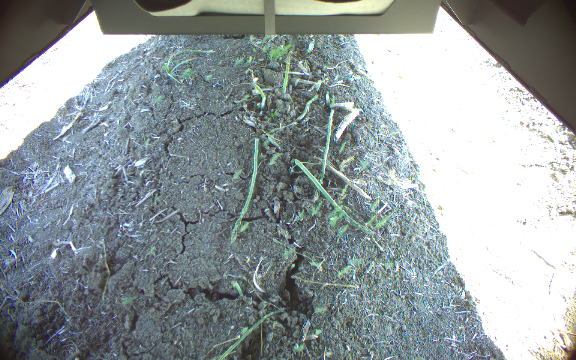aspa: (283, 53, 291, 92), (250, 81, 266, 99)
